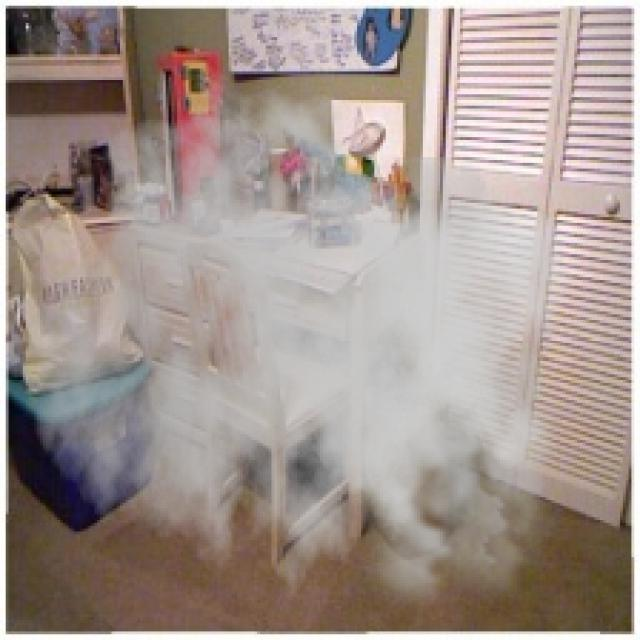smoke: (26, 71, 588, 634)
